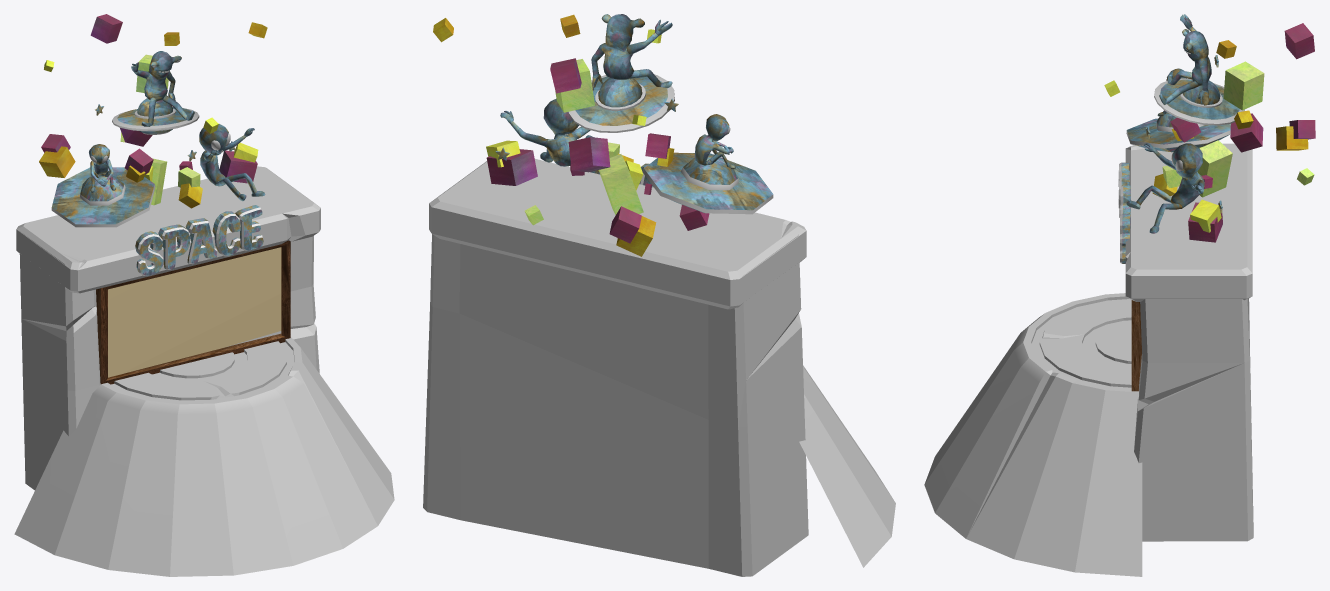
File: Str_Stand_Space_01_Art.fbx
The picture shows the model from 3 angles, left to right: view 1: azimuth 30°, elevation 25°; view 2: azimuth 150°, elevation 25°; view 3: azimuth 270°, elevation 25°; orthographic projection. The views are drawn at different scales.
Parts seen in each view (by area): view 1: Str_Stand_Space_01; view 2: Str_Stand_Space_01; view 3: Str_Stand_Space_01.
Boxes of the visible parts, x1,y1,x2,y2 form: Str_Stand_Space_01: [14, 14, 394, 576]; Str_Stand_Space_01: [423, 14, 895, 576]; Str_Stand_Space_01: [924, 14, 1315, 576].
Size of the model in its own units: 1541 by 1767 by 1383.
